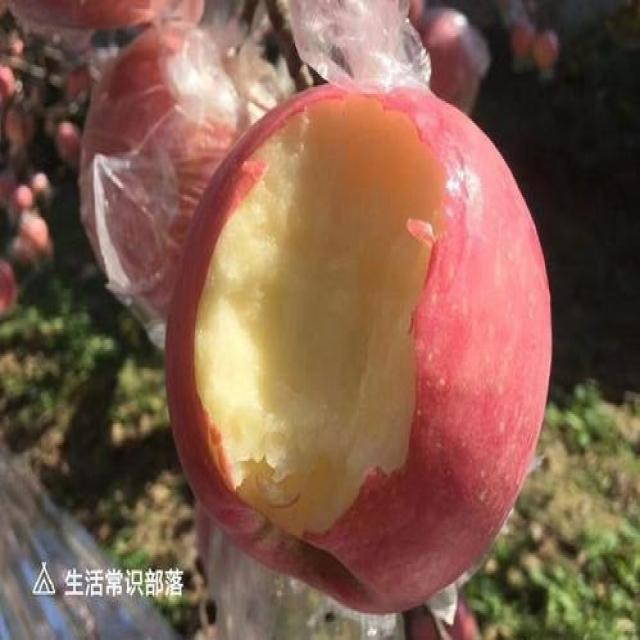Rotten: (199, 87, 541, 580)
